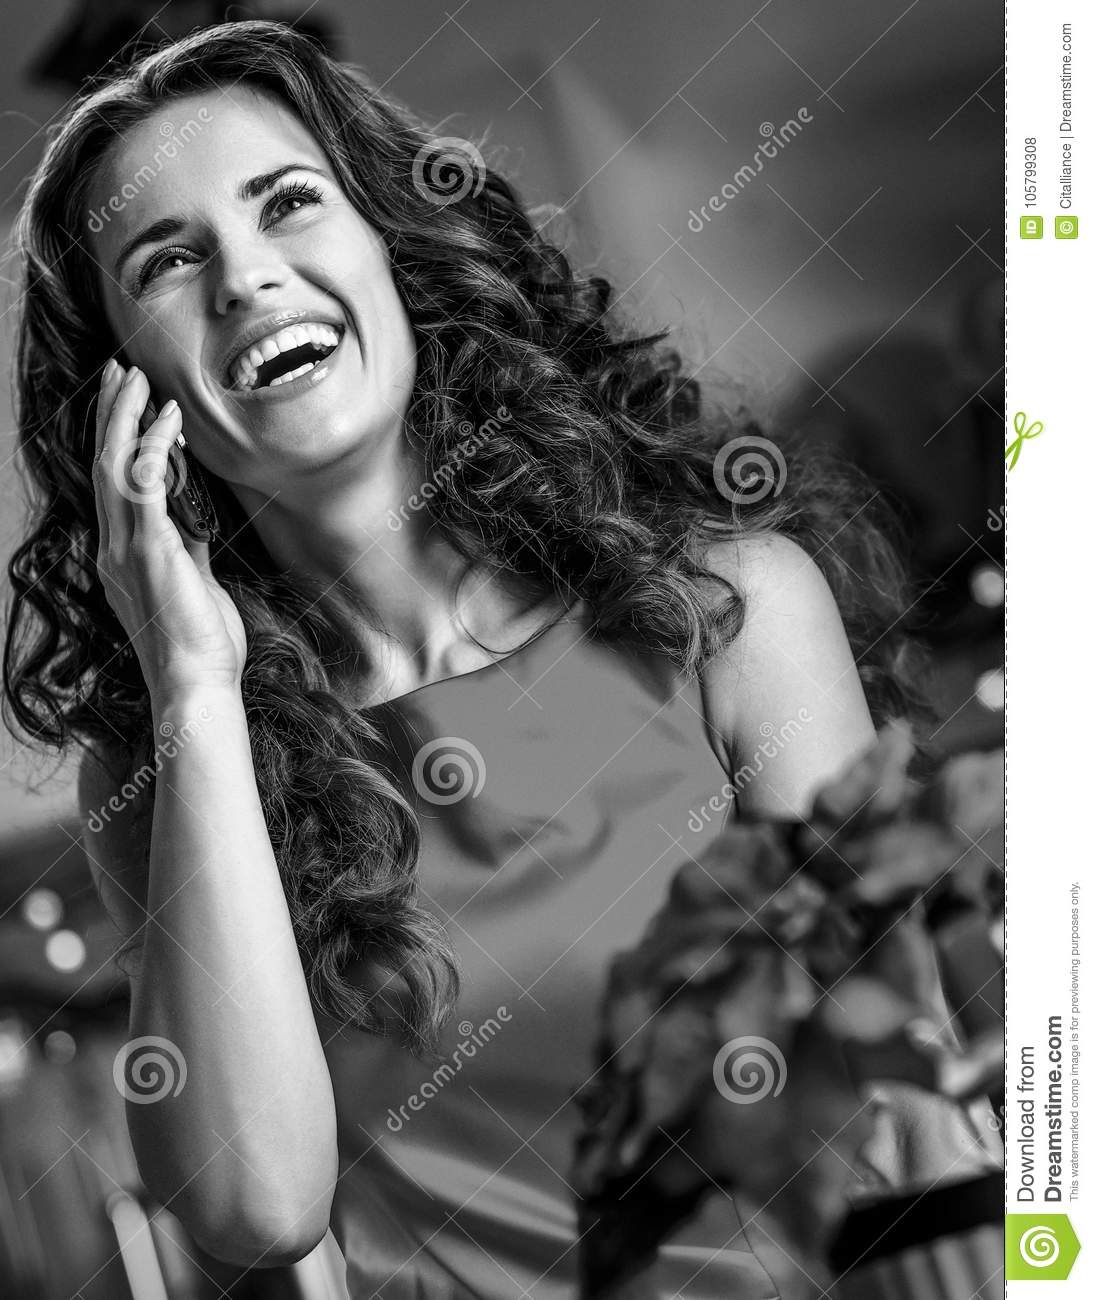phone: (110, 337, 225, 552)
talk: (80, 155, 423, 700)
